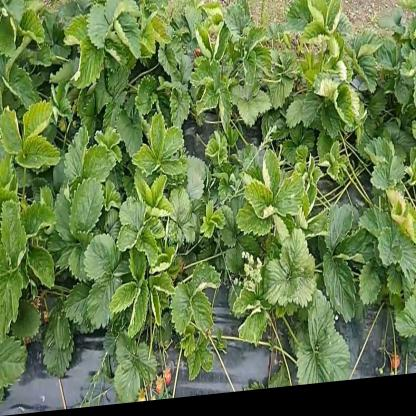ripe: (163, 370, 172, 390), (391, 362, 400, 378)
unripe: (58, 119, 66, 134)
